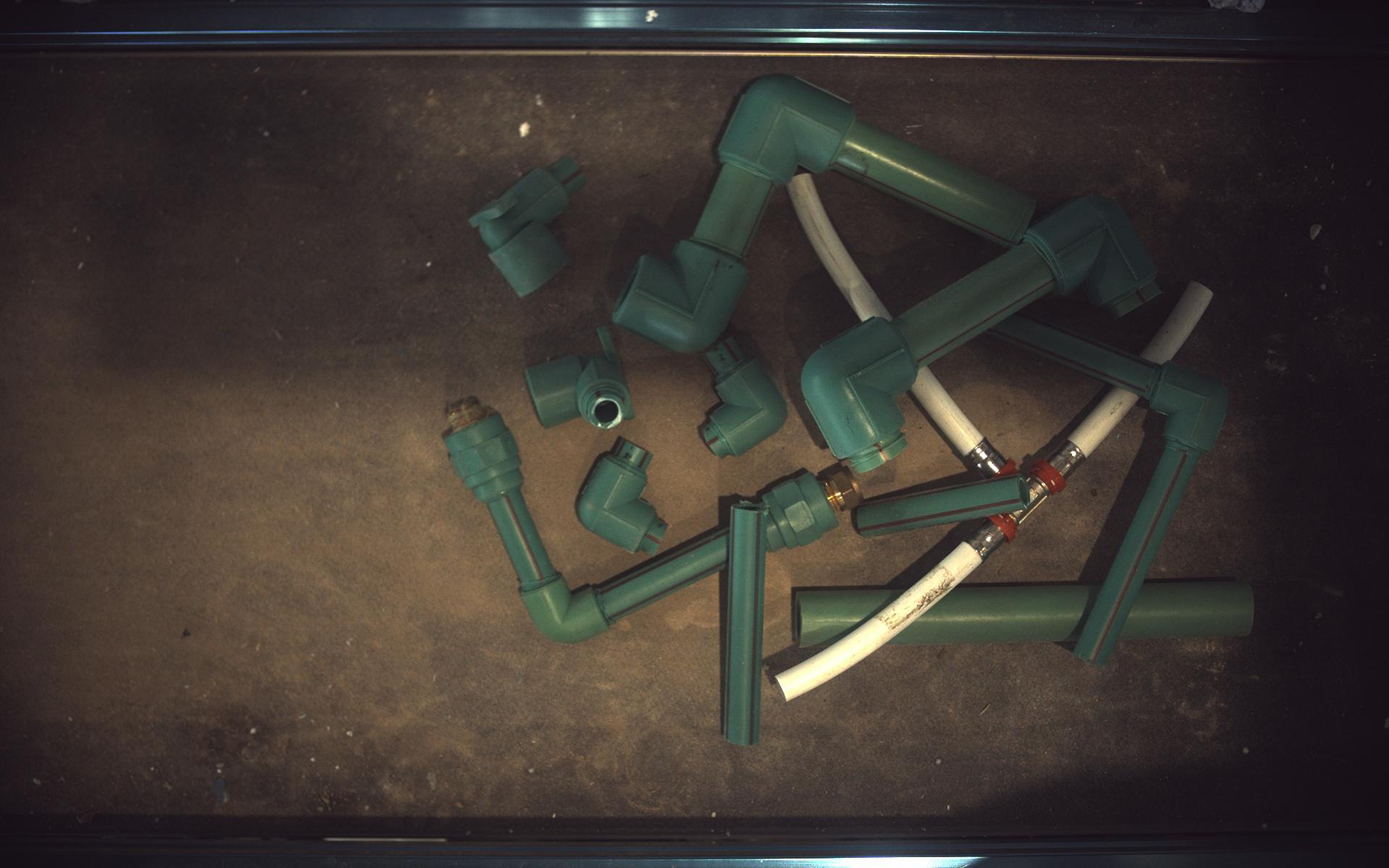pipes: (778, 387, 1141, 702), (803, 195, 1158, 472), (995, 314, 1231, 666), (444, 397, 729, 644), (833, 119, 1037, 245), (469, 156, 586, 296), (788, 171, 893, 320), (613, 239, 749, 352), (720, 74, 857, 183), (893, 584, 1102, 645), (525, 326, 635, 430), (912, 366, 1014, 477), (855, 475, 1032, 537), (723, 501, 767, 746), (701, 336, 789, 458), (577, 437, 667, 553), (760, 466, 860, 552), (1123, 581, 1257, 641), (693, 162, 774, 258), (794, 589, 899, 647), (1144, 281, 1216, 364), (1148, 284, 1214, 365)
